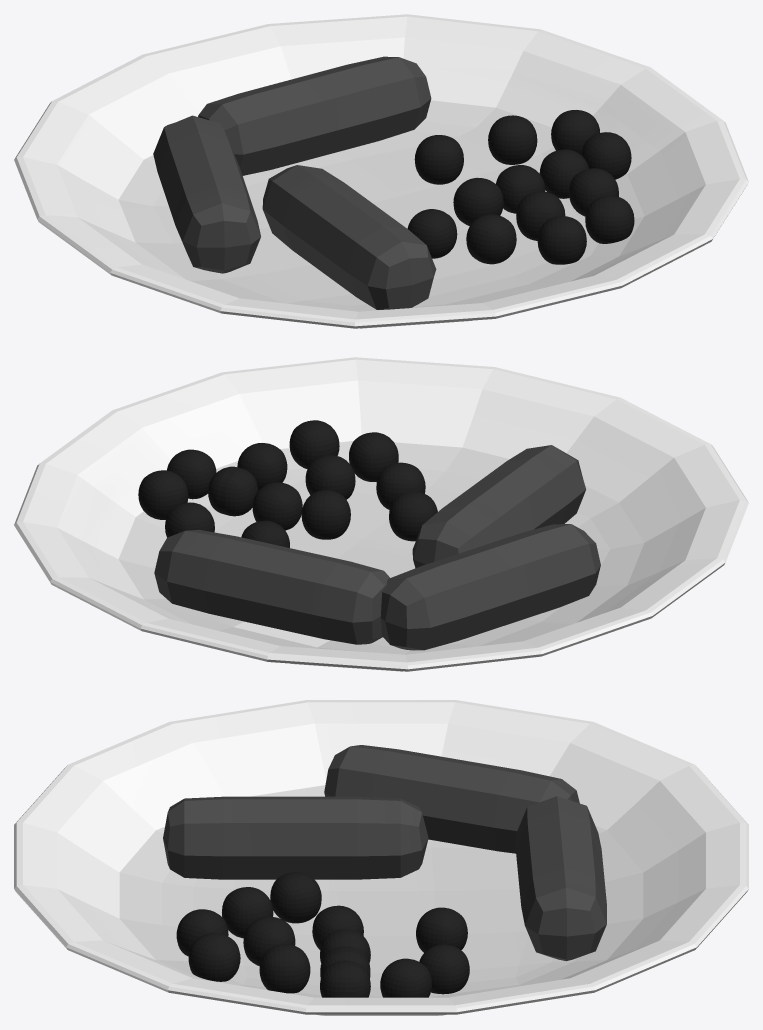
Rendered from PlateOfFoodModel.fbx.
3 renders of one model, top to bottom at view 1: azimuth 30°, elevation 25°; view 2: azimuth 150°, elevation 25°; view 3: azimuth 270°, elevation 25°, orthographic. The views are drawn at different scales.
Parts seen in each view (by area): view 1: PlateOfFoodModel; view 2: PlateOfFoodModel; view 3: PlateOfFoodModel.
Part boxes in pixels (bbox=[...]): PlateOfFoodModel: bbox=[14, 14, 748, 328]; PlateOfFoodModel: bbox=[14, 357, 748, 671]; PlateOfFoodModel: bbox=[14, 700, 748, 1015].
Size of the model in its own units: 57.41 by 7.78 by 57.41.
